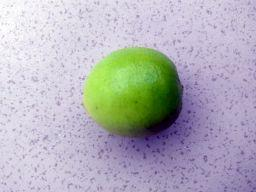lemon: (62, 41, 196, 138)
